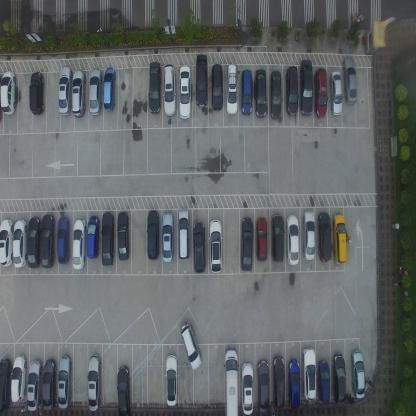car: (180, 321, 202, 371), (223, 348, 239, 416), (86, 353, 102, 412), (26, 359, 42, 412), (299, 58, 313, 118), (41, 213, 56, 269), (57, 354, 72, 410), (350, 349, 366, 400), (100, 210, 114, 267), (302, 347, 316, 403), (332, 212, 347, 264), (317, 211, 332, 263), (192, 220, 206, 275), (208, 218, 222, 273), (10, 354, 26, 402), (72, 218, 86, 272), (256, 360, 270, 414), (332, 352, 346, 406), (0, 69, 16, 116), (224, 63, 238, 116), (42, 359, 56, 412), (0, 357, 13, 414), (28, 70, 44, 116), (314, 67, 328, 119), (58, 64, 72, 116), (286, 214, 300, 266), (272, 356, 286, 408), (287, 358, 301, 410), (195, 52, 208, 107), (163, 62, 176, 117), (148, 60, 161, 115), (240, 217, 253, 272), (241, 360, 254, 415), (146, 209, 160, 260), (13, 217, 27, 268), (116, 364, 130, 415), (342, 57, 357, 104), (27, 215, 40, 269), (253, 68, 267, 118), (72, 68, 86, 118), (56, 215, 70, 265), (0, 215, 13, 268), (161, 211, 174, 263), (165, 354, 178, 406), (116, 211, 129, 262), (177, 209, 190, 260), (269, 70, 282, 121), (285, 66, 298, 117), (179, 65, 191, 120), (329, 69, 343, 116), (210, 63, 223, 113), (271, 213, 284, 263), (239, 68, 252, 117), (303, 209, 315, 261), (86, 215, 100, 259), (103, 66, 116, 112), (89, 67, 101, 116), (318, 359, 330, 404), (256, 217, 268, 261)
